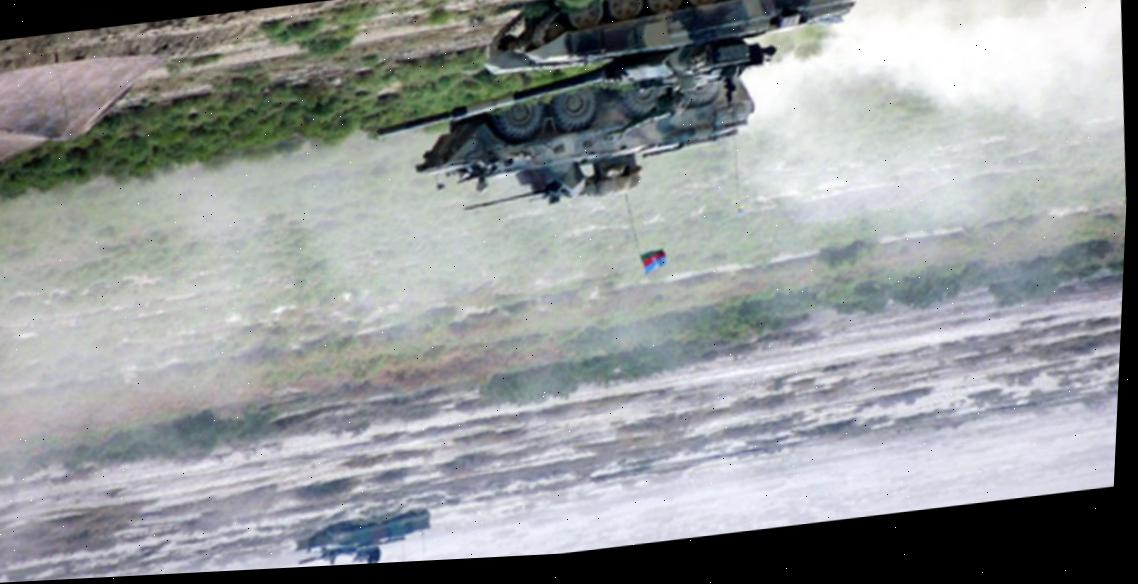tank: (364, 0, 871, 142), (406, 63, 761, 221), (290, 508, 433, 568)
